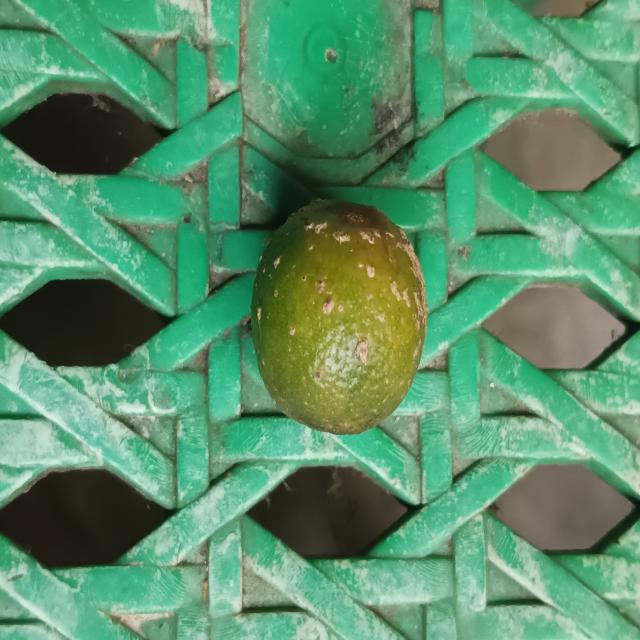scab: (245, 194, 428, 438)
